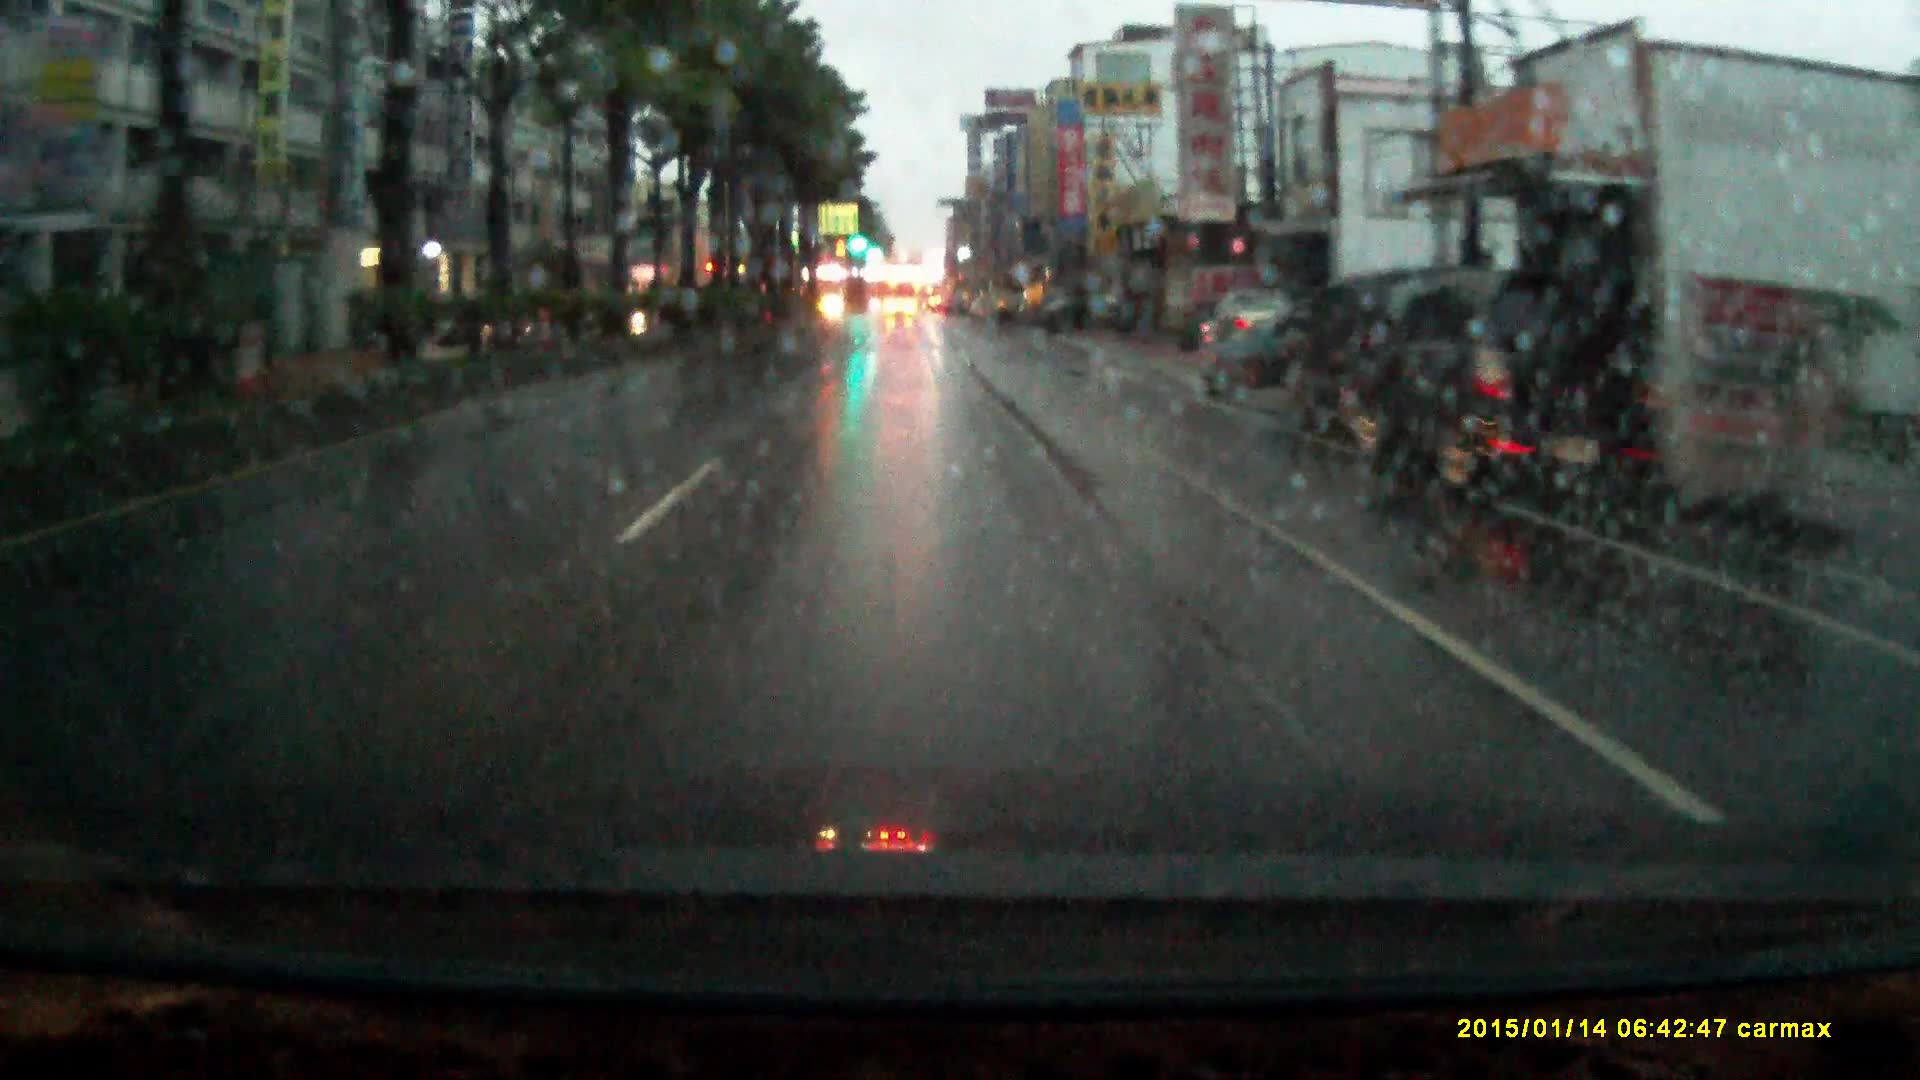vehicle: (1335, 253, 1697, 491), (1269, 258, 1485, 439), (1197, 291, 1320, 389), (980, 277, 1025, 314), (885, 286, 918, 311)
